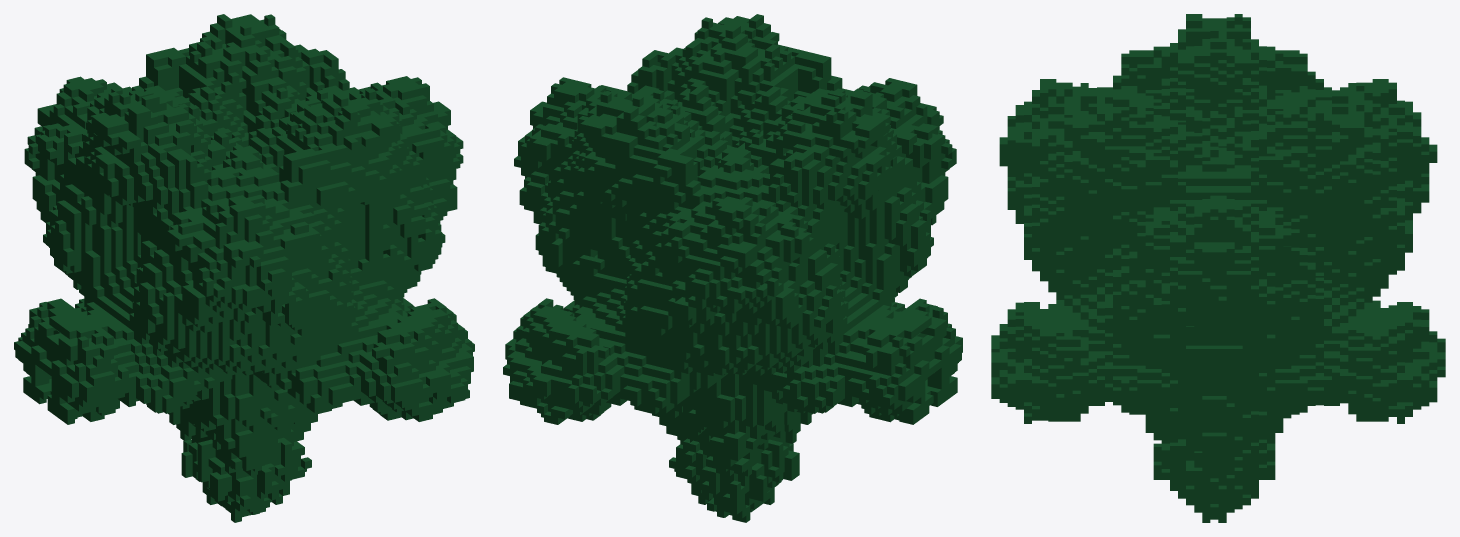
Rendered from drzewko-39.obj.
3 renders of one model, left to right at view 1: azimuth 30°, elevation 25°; view 2: azimuth 150°, elevation 25°; view 3: azimuth 270°, elevation 25°, orthographic.
Bounding box in the file's own units: 5.7 × 5.9 × 5.6.
Materials: 1 (1 with a texture image).
